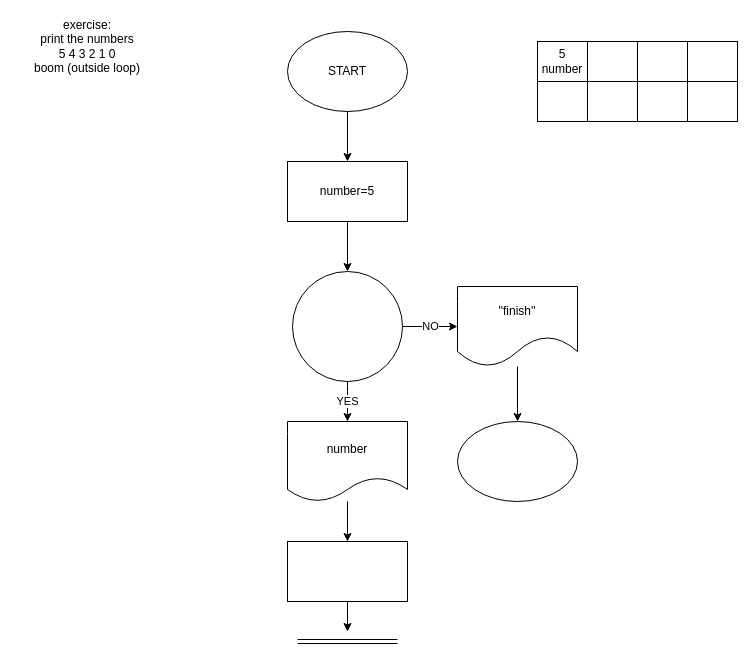
The diagram is 755 pixels wide and 661 high, and some of its shapes have lost their labels. Each missing label, with the centre of its shape:
number=number+1: [347,571]
number>=0 AND number<=5: [347,326]
STOP: [517,461]
